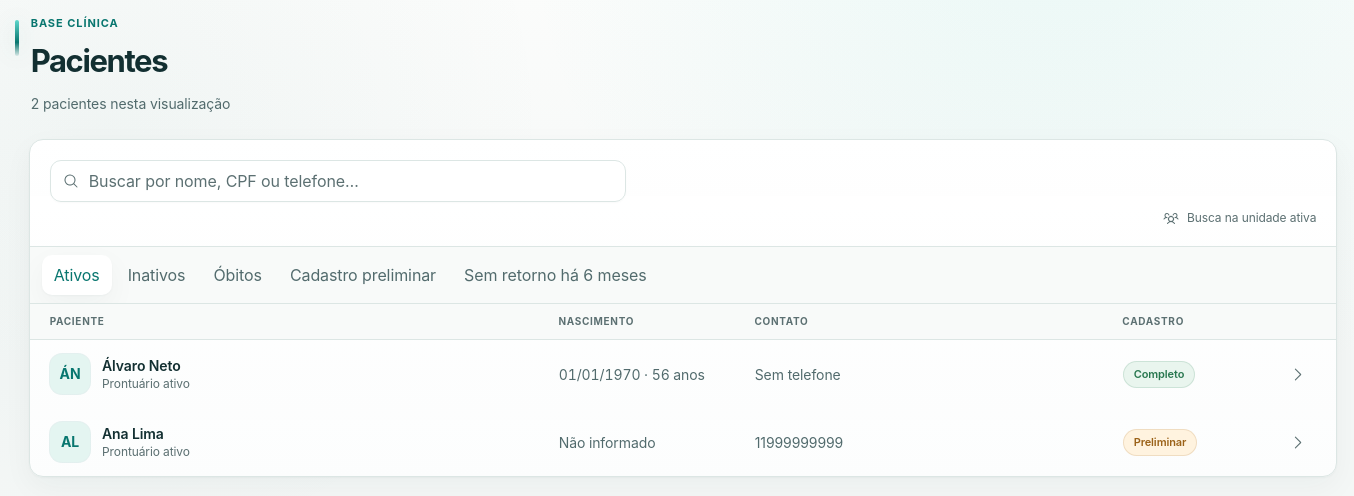
tela Pacientes › filtra pacientes ao digitar na busca
Expected: the text "Álvaro Neto" is shown, top-left (102, 356), bottom-right (190, 376)
Type "ana" into the field named "Buscar pacientes" at (351, 181), box top-left (89, 161), bottom-right (613, 201)
Wait 350 ms
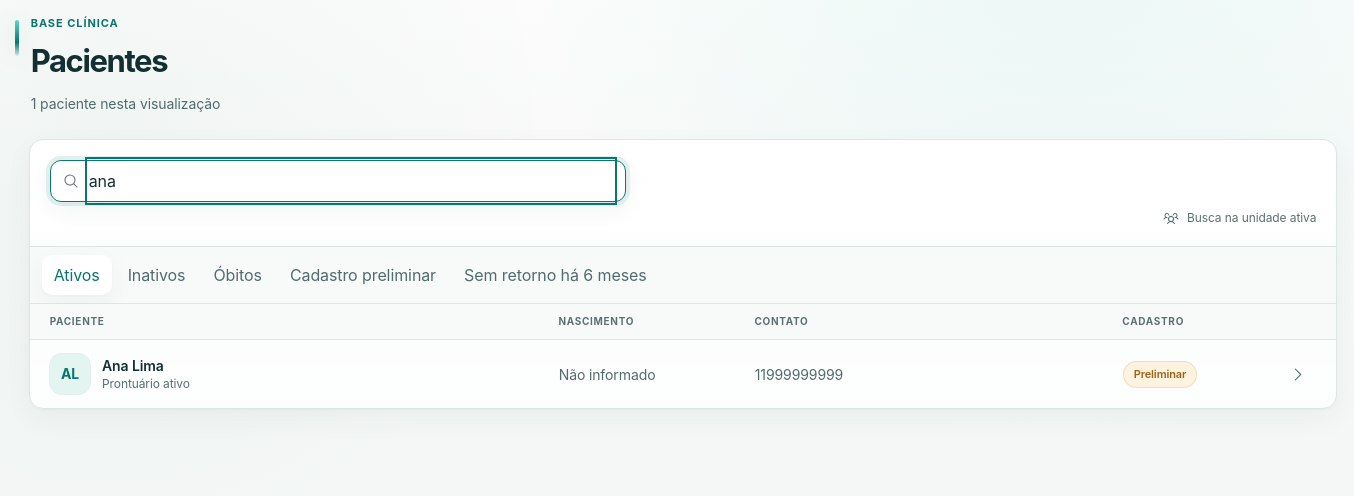
Expected: the text "Ana Lima" is shown, top-left (102, 357), bottom-right (164, 374)
Now the button "Álvaro Neto" is gone
